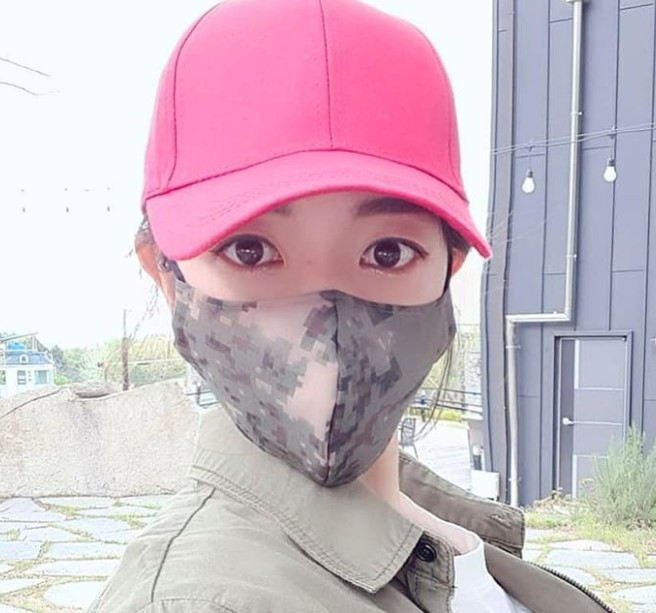face_with_mask: (130, 6, 492, 495)
